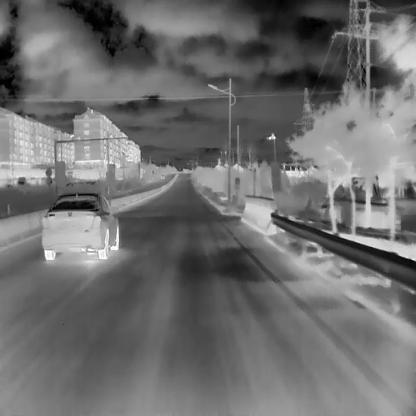car: (40, 192, 118, 259), (160, 173, 164, 178)
